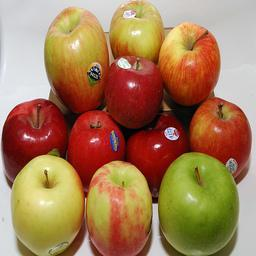apple: (159, 153, 240, 255), (10, 155, 84, 254), (43, 5, 109, 112), (84, 160, 152, 254), (1, 97, 68, 184), (187, 96, 251, 181), (157, 21, 220, 106), (102, 55, 163, 129), (66, 110, 125, 184), (129, 120, 187, 195), (108, 1, 165, 62)
